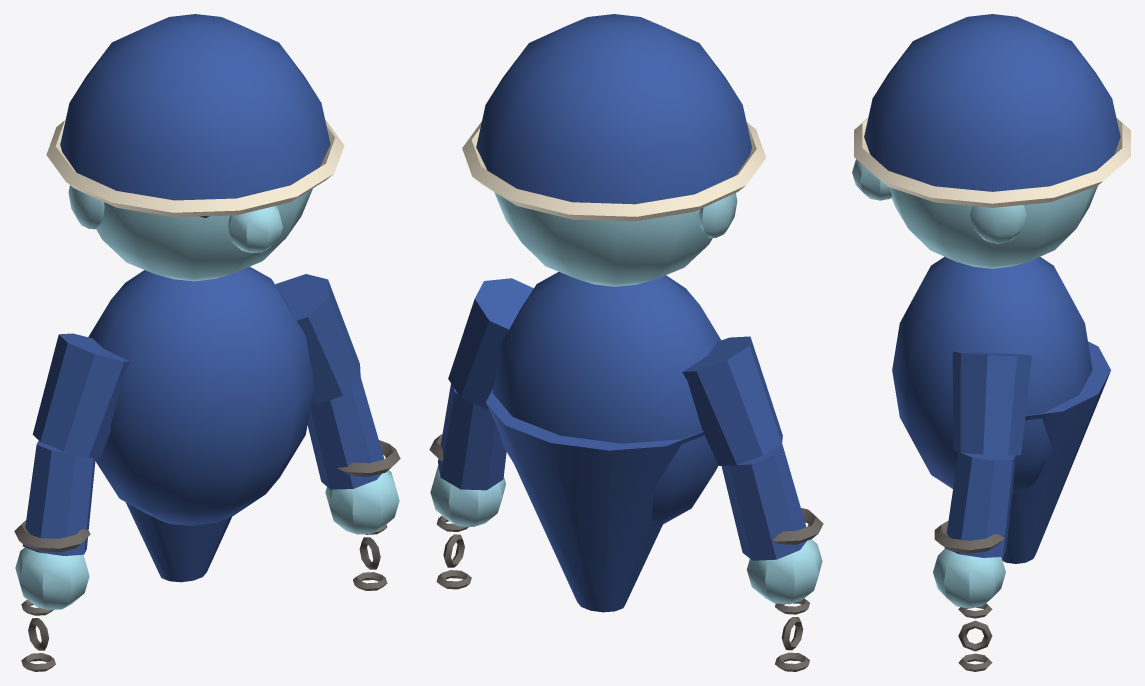
File: CH_Cust_29_HayaletSovalye.fbx
3 renders of one model, left to right at view 1: azimuth 30°, elevation 25°; view 2: azimuth 150°, elevation 25°; view 3: azimuth 270°, elevation 25°, orthographic. The views are drawn at different scales.
Visible parts, largest first — view 1: CH_Cust_29_HayaletSovalye; view 2: CH_Cust_29_HayaletSovalye; view 3: CH_Cust_29_HayaletSovalye.
Boxes of the visible parts, x1,y1,x2,y2 form: CH_Cust_29_HayaletSovalye: (14, 14, 400, 671); CH_Cust_29_HayaletSovalye: (429, 14, 823, 671); CH_Cust_29_HayaletSovalye: (852, 14, 1130, 671).
Size of the model in its own units: 0.7012 by 1.05 by 0.473.
Materials: 1 (1 with a texture image).
